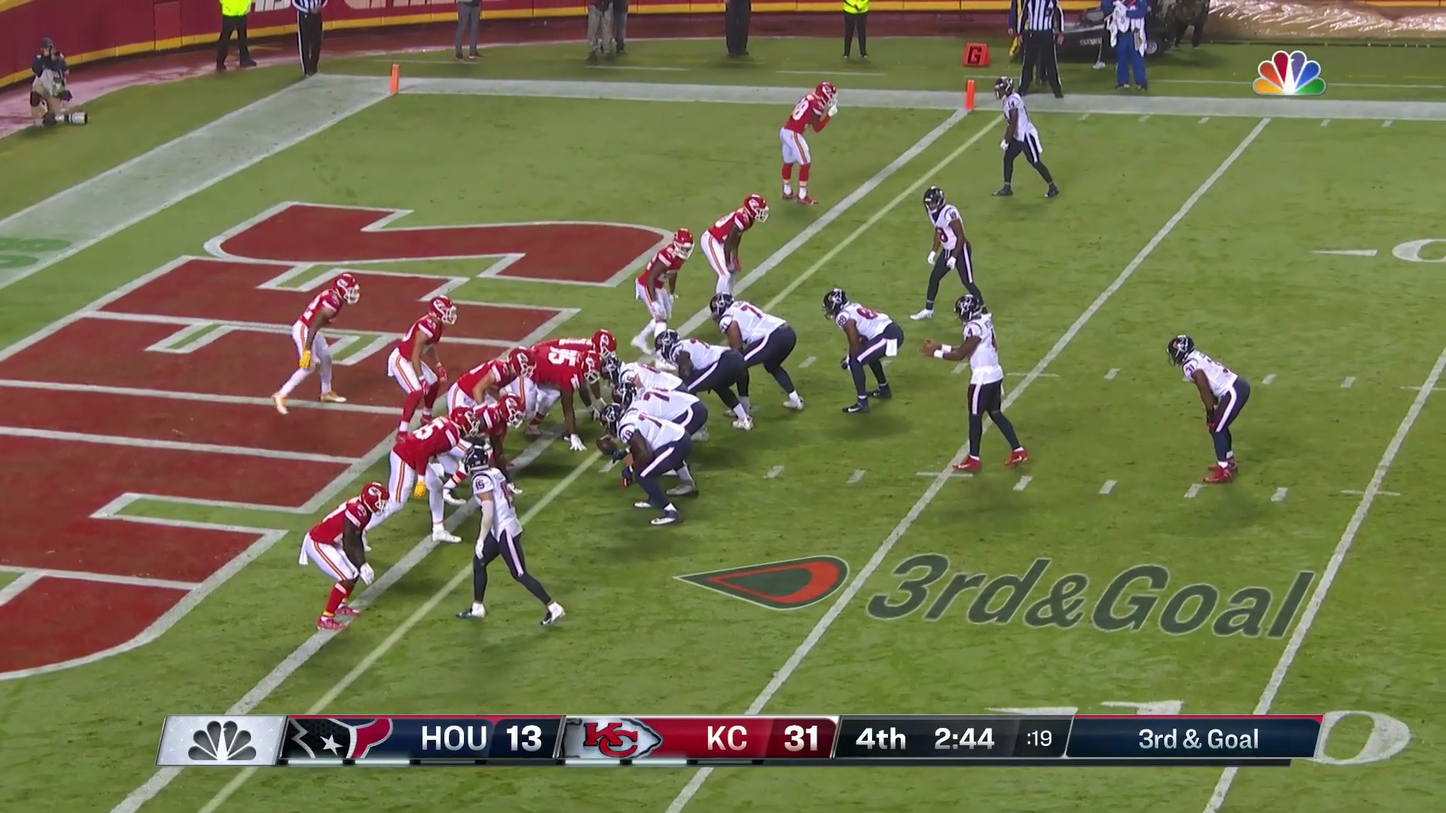Player: (617, 364, 702, 481), (528, 332, 610, 445), (389, 410, 463, 513), (451, 351, 530, 441), (637, 229, 693, 333), (463, 378, 524, 465)
